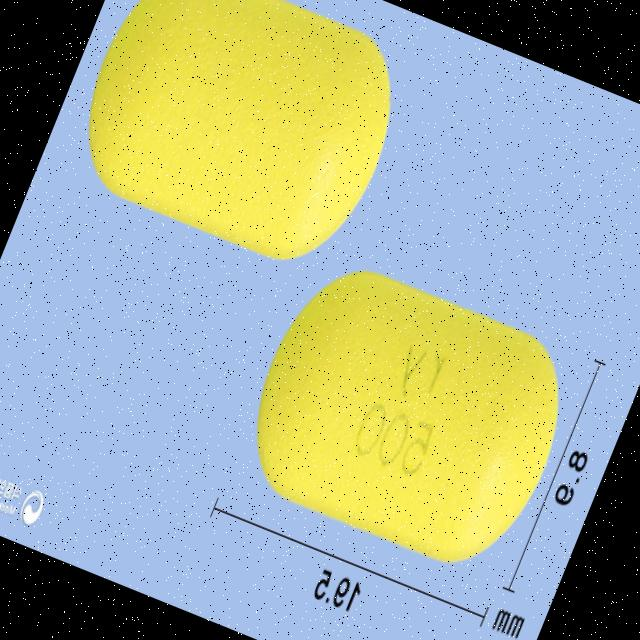Reyon Clarithromycin Tab: (224, 246, 590, 587), (59, 0, 419, 278)
